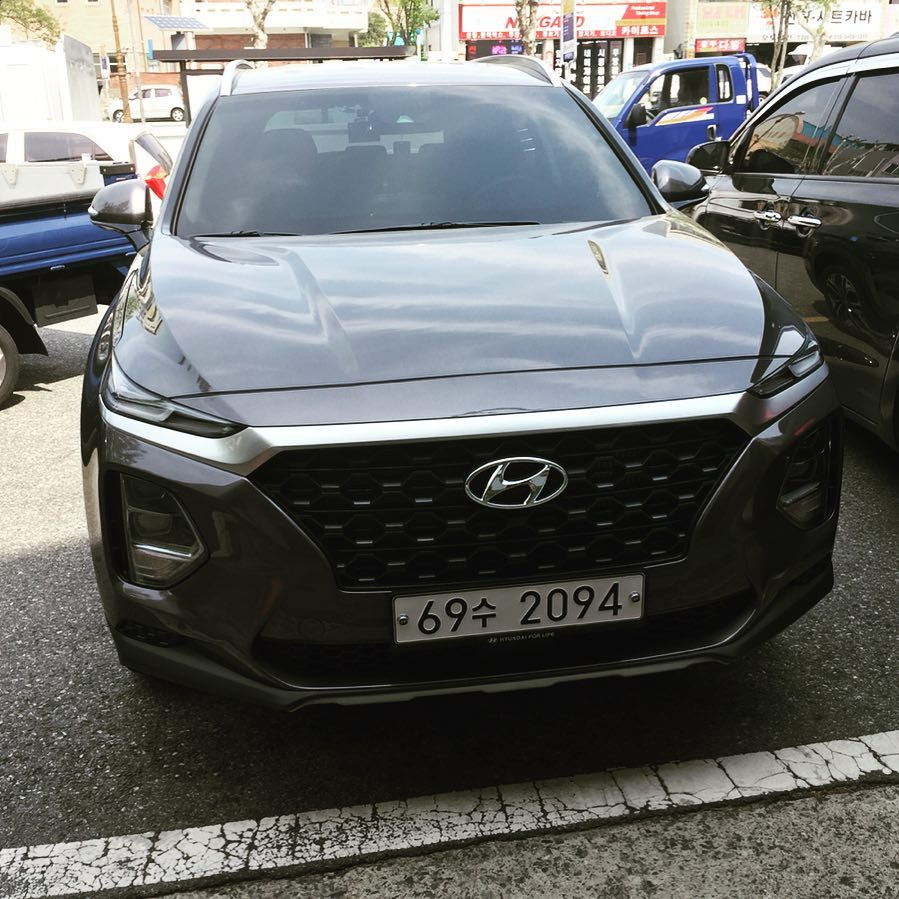plate: (395, 575, 643, 643)
